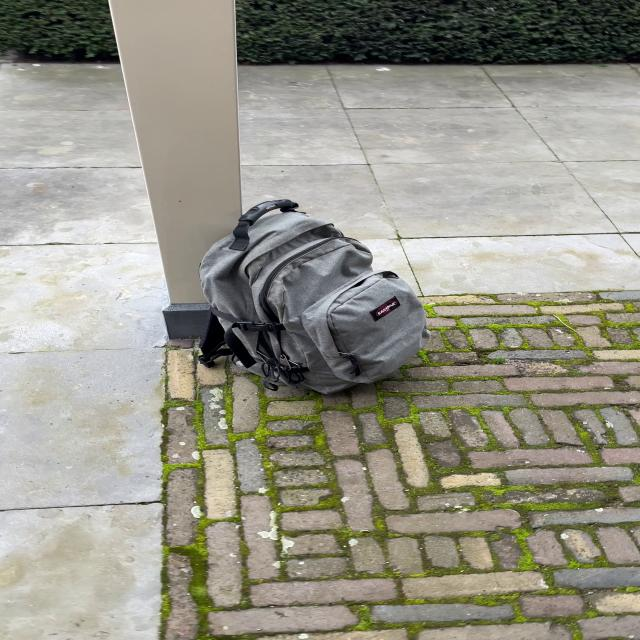backpack: (189, 194, 438, 402)
